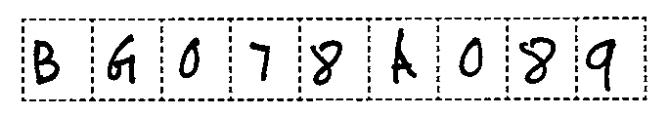0: (453, 30, 487, 82), (173, 34, 203, 84)
7: (238, 35, 280, 86)
8: (515, 32, 559, 89), (306, 38, 347, 89)
9: (582, 35, 624, 93)
A: (380, 24, 424, 87)
B: (28, 35, 66, 91)
G: (98, 29, 143, 88)
